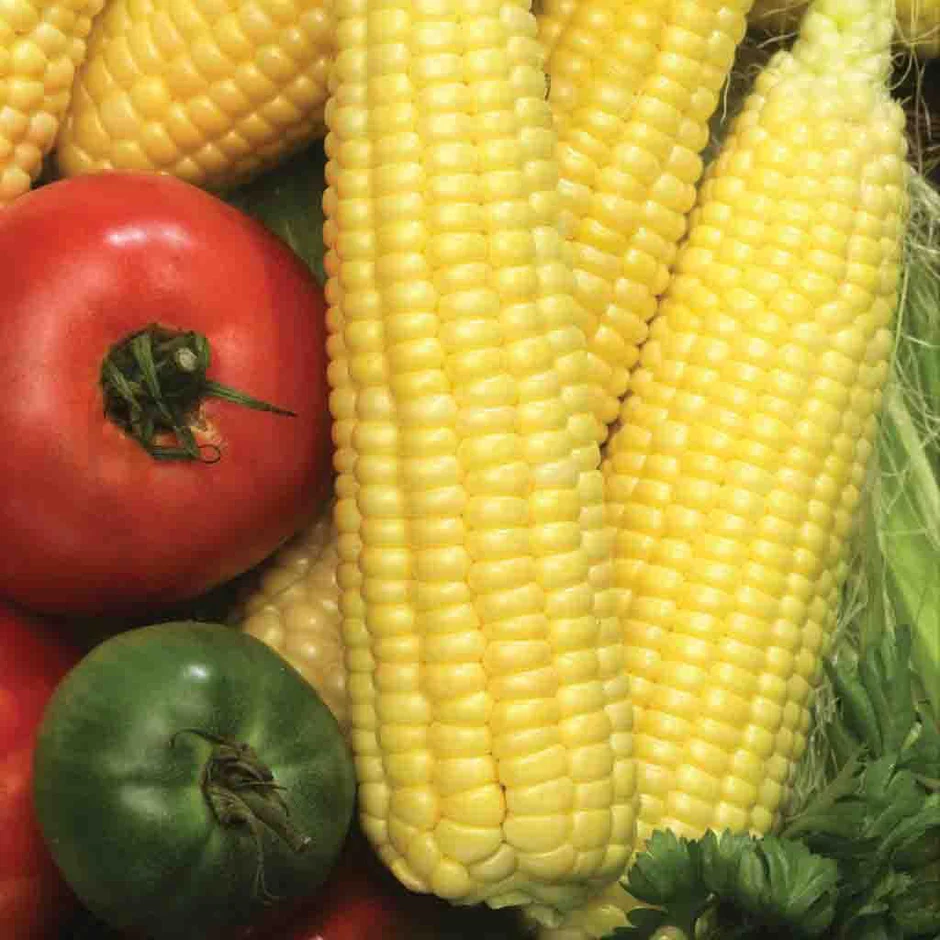corn: (331, 0, 697, 878)
